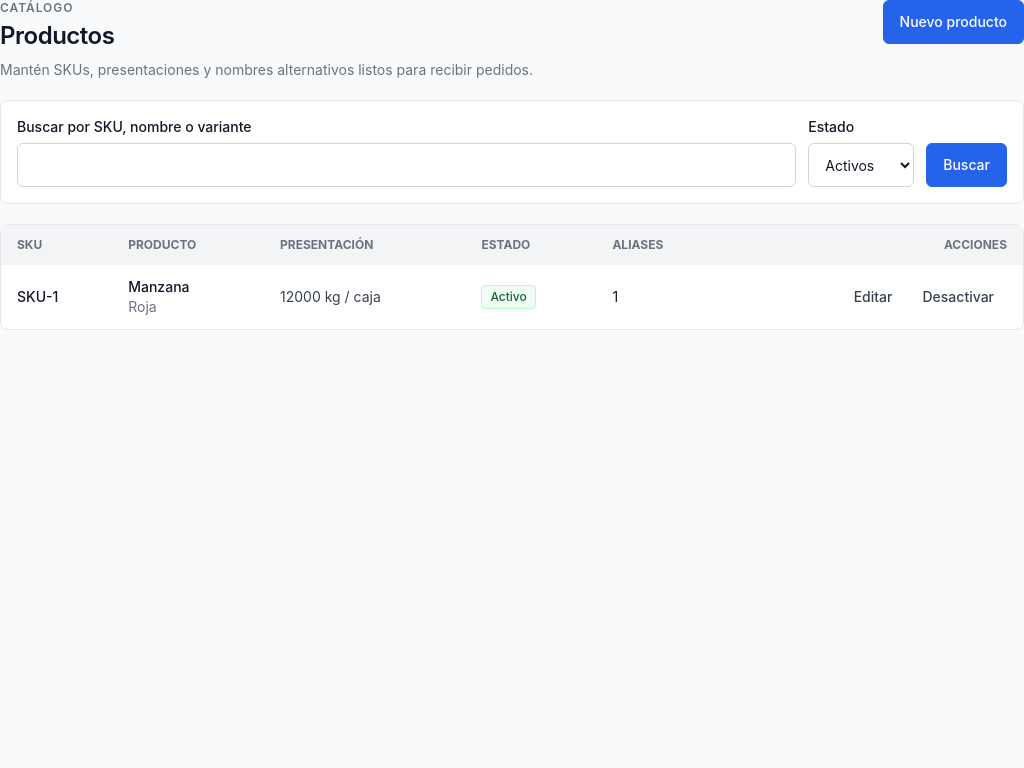
Test: product catalog page › submits an edited product and announces the committed change
The image size is (1024, 768).
Click the button "Editar" at (873, 297), box [841,279,906,315]
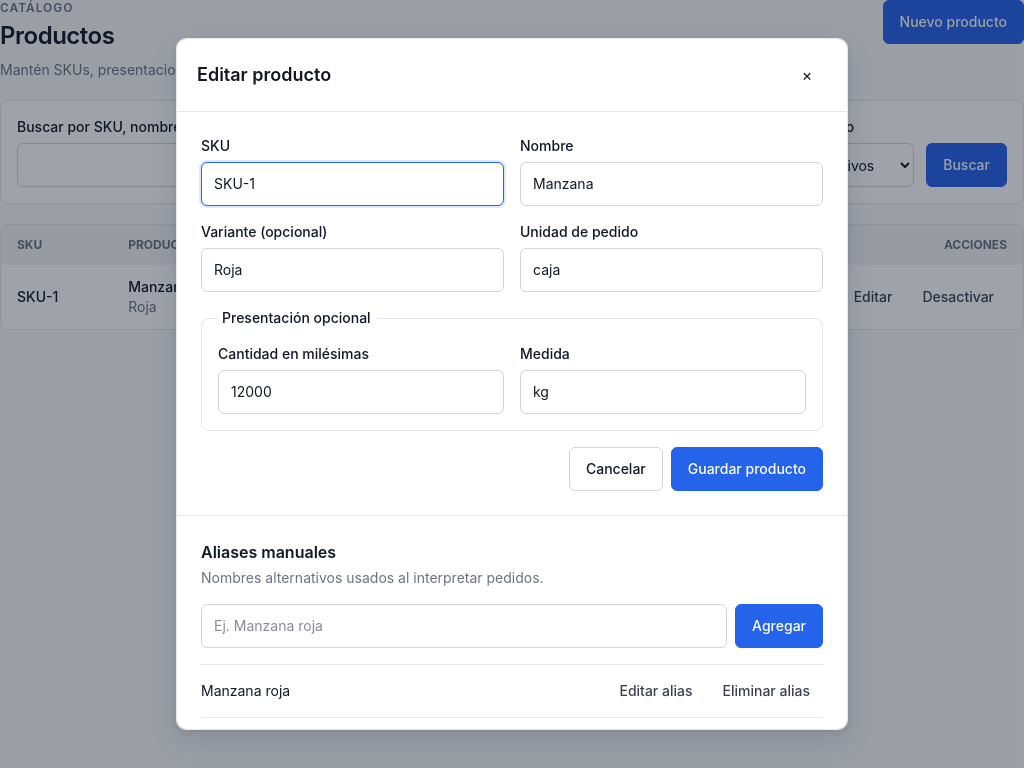
Replace the text in the field labelled "Nombre" with "Manzana premium" at (672, 184), box [520,162,823,206]
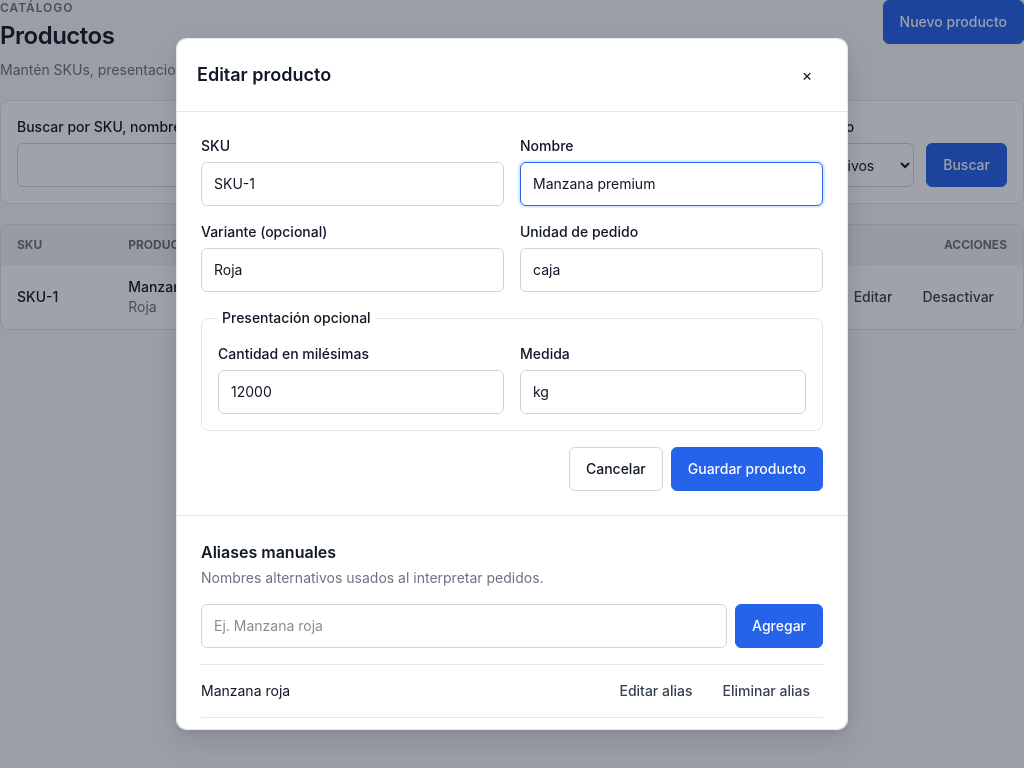
Click the button "Guardar producto" at (747, 469), box [671,447,823,491]
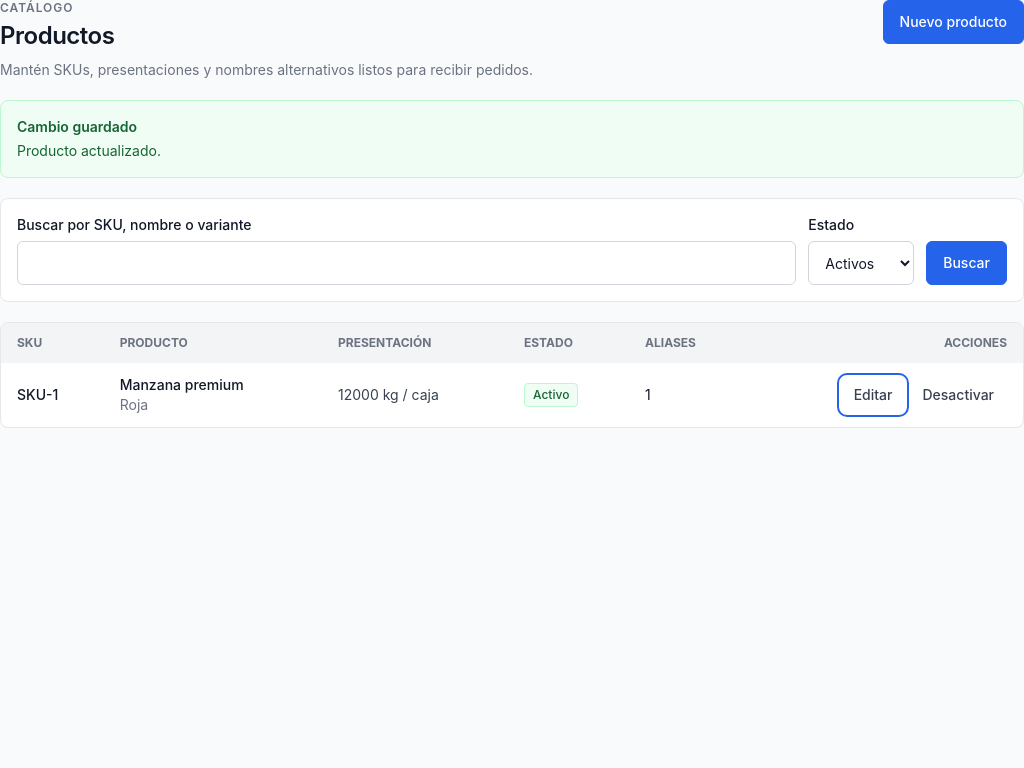
Now the text "Producto actualizado." is shown, box [17,142,161,159]
